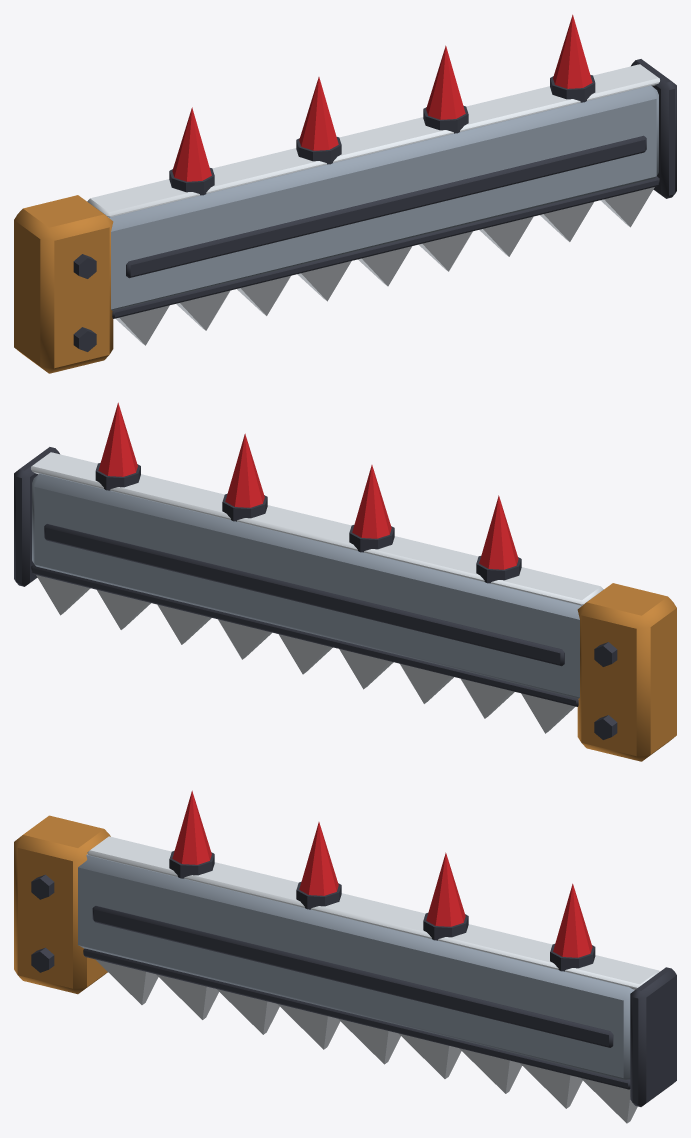
Rendered from blade_arm.glb.
3 views of the same model, one above another, from view 1: azimuth 30°, elevation 25°; view 2: azimuth 150°, elevation 25°; view 3: azimuth 330°, elevation 25° (orthographic).
Parts seen in each view (by area): view 1: body; view 2: body; view 3: body.
Boxes of the visible parts, <box> form: body: <box>14,14,676,373</box>; body: <box>14,402,676,761</box>; body: <box>14,790,676,1123</box>.
Size of the model in its own units: 1 by 0.34 by 0.13.
